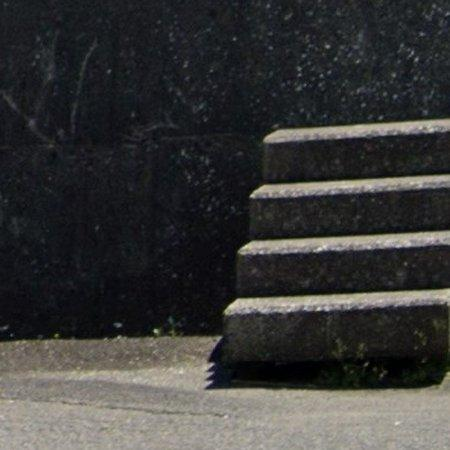stairs: (222, 289, 450, 365)
